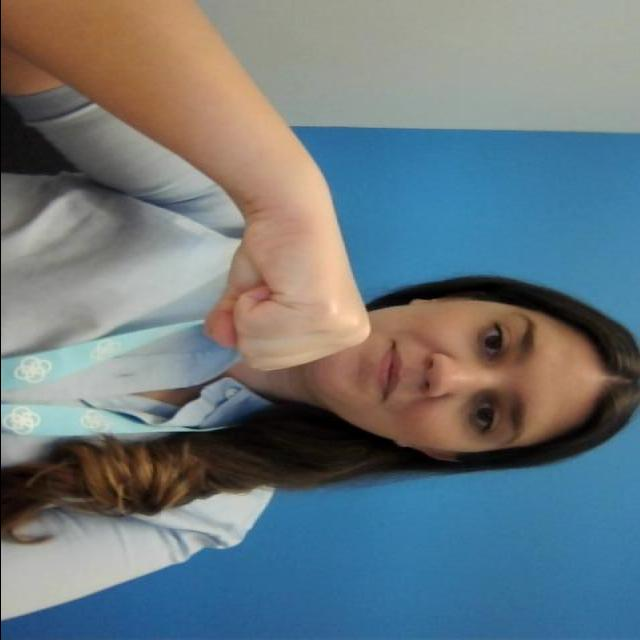Rock: (200, 202, 374, 377)
